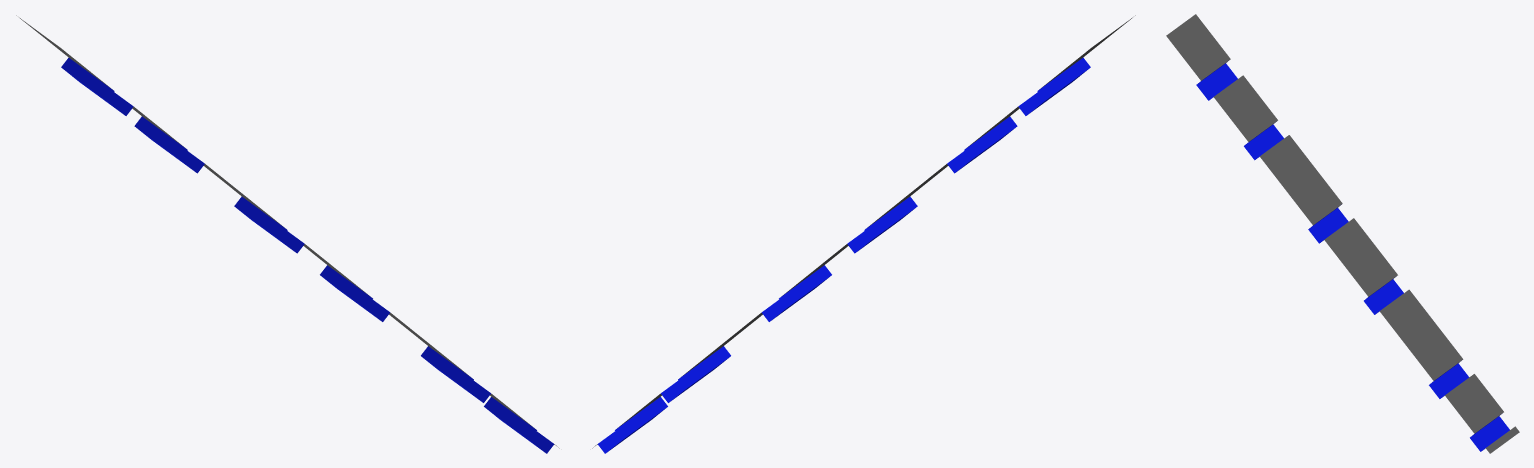
File: roof_end.fbx
3 renders of one model, left to right at view 1: azimuth 30°, elevation 25°; view 2: azimuth 150°, elevation 25°; view 3: azimuth 330°, elevation 25°, orthographic. The views are drawn at different scales.
Parts seen in each view (by area): view 1: roof_end; view 2: roof_end; view 3: roof_end.
Boxes of the visible parts, x1,y1,x2,y2 form: roof_end: [16, 15, 559, 453]; roof_end: [592, 15, 1135, 453]; roof_end: [1166, 14, 1519, 453].
Bounding box in the file's own units: 209 × 209 × 33.19.
